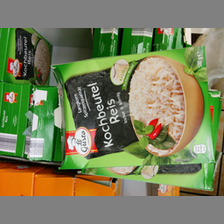rice: (49, 45, 216, 171), (1, 28, 53, 87)
